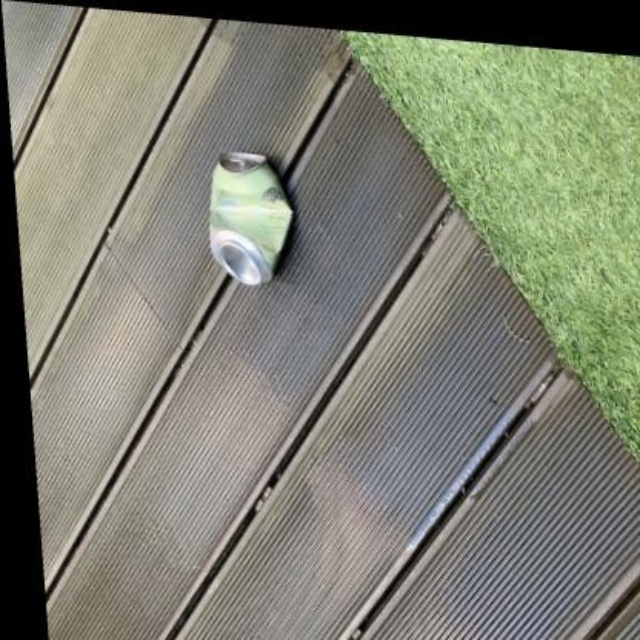trash: (209, 152, 291, 283)
